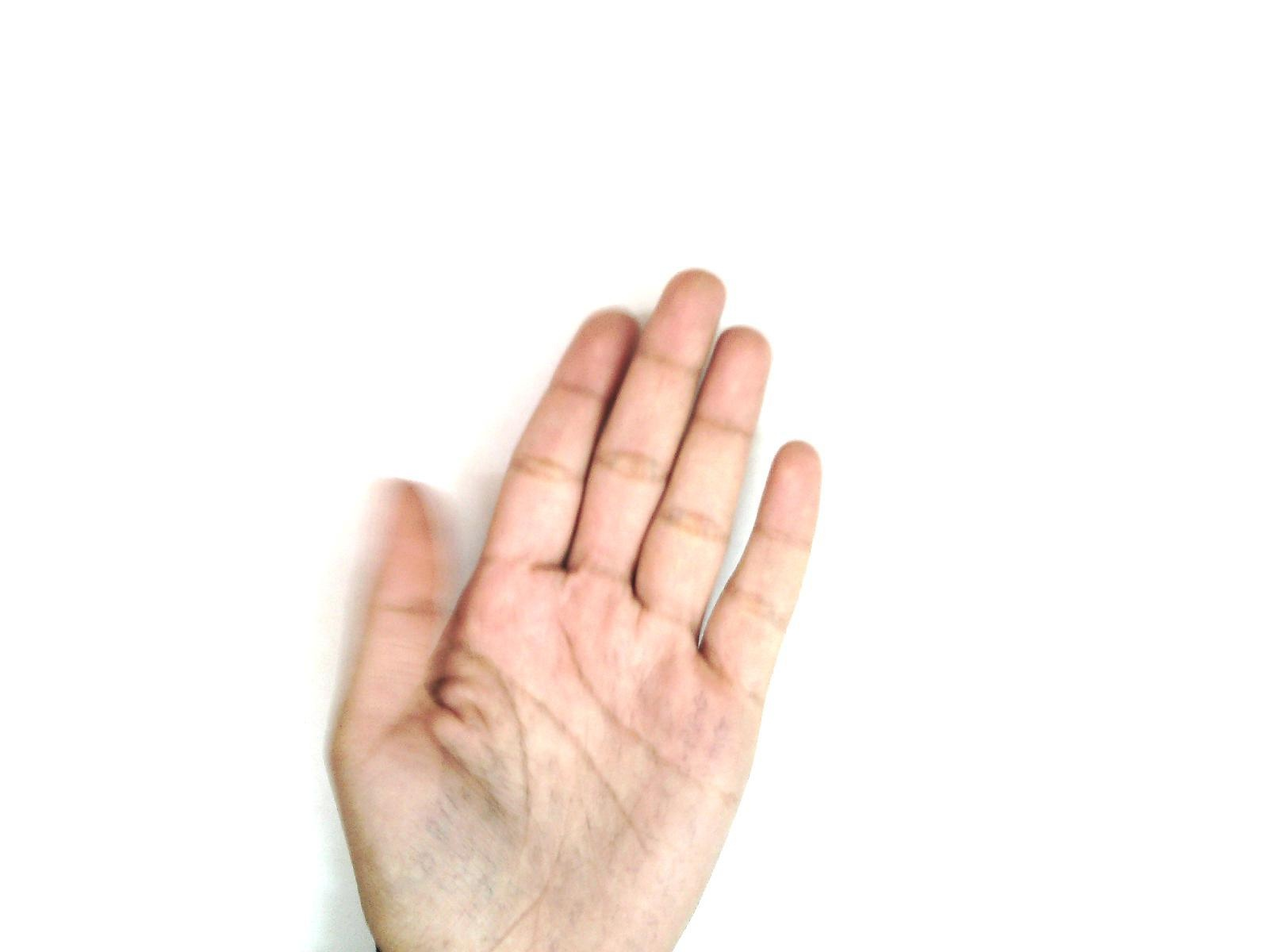open_palm: (324, 267, 826, 951)
